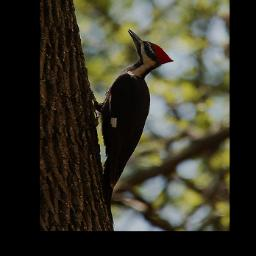Woodpecker: (80, 28, 174, 224)
